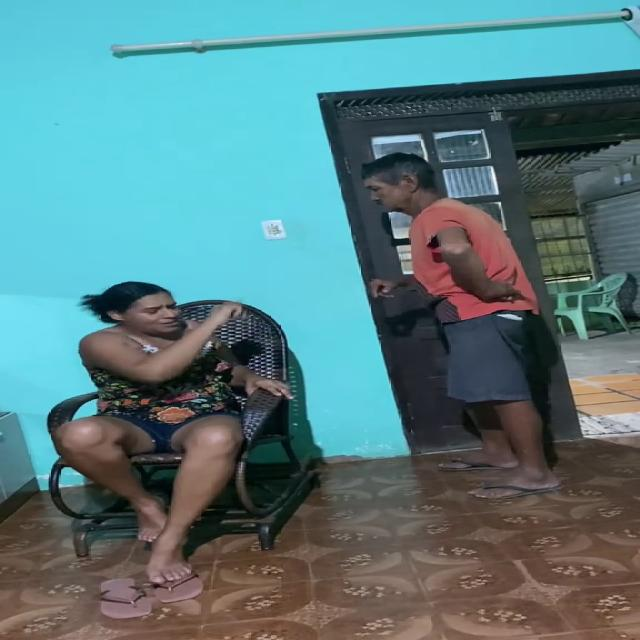em_pe: (363, 153, 559, 492)
sentado: (49, 281, 313, 599)
